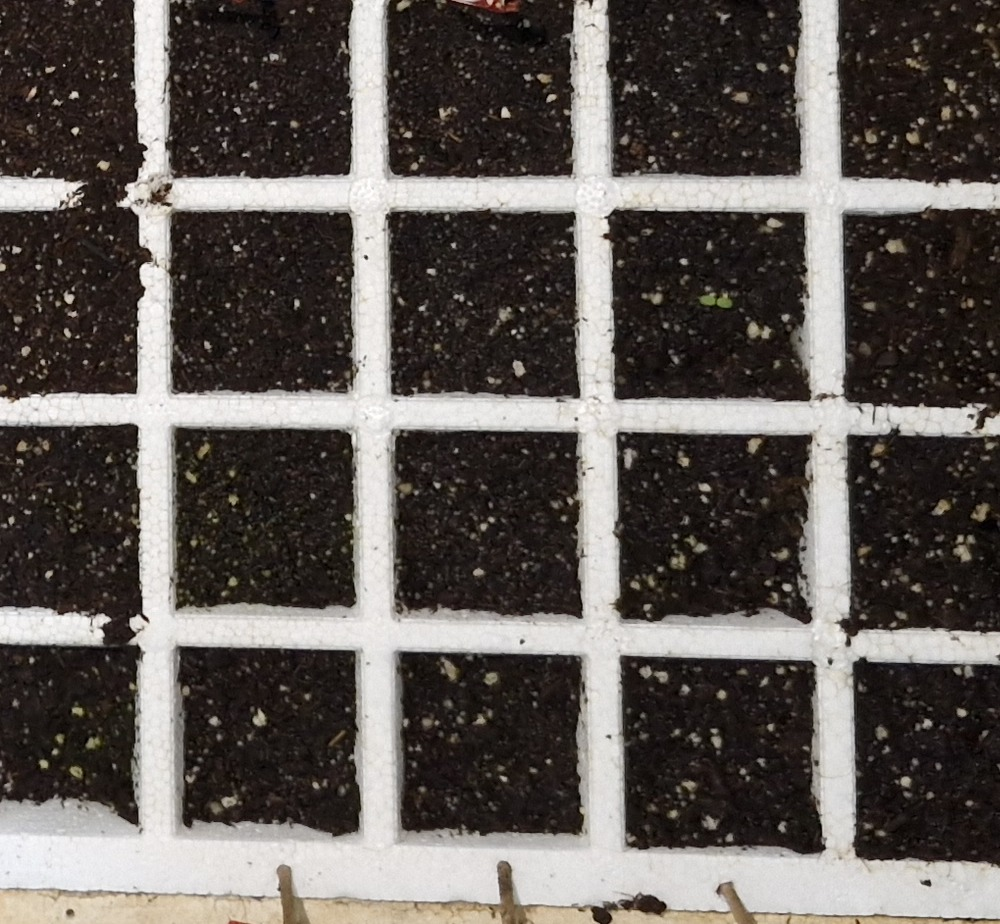Folha: (717, 298, 733, 308), (700, 296, 716, 305)
Germinacao: (699, 296, 733, 307)
